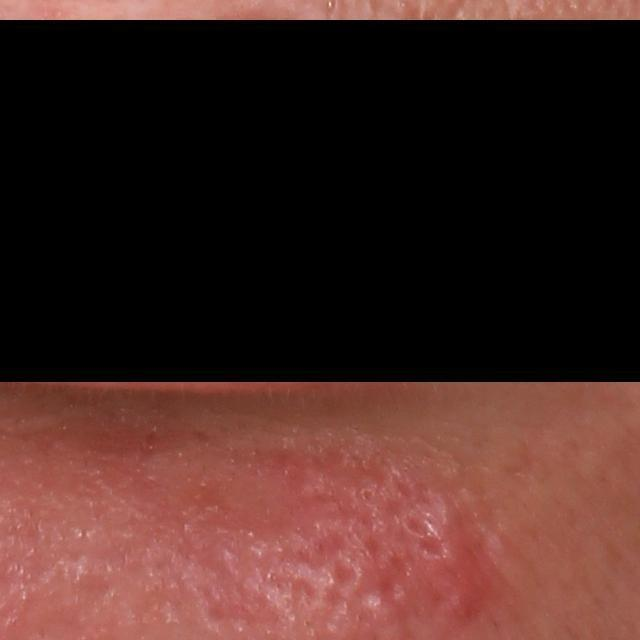papule: (422, 510, 500, 624)
